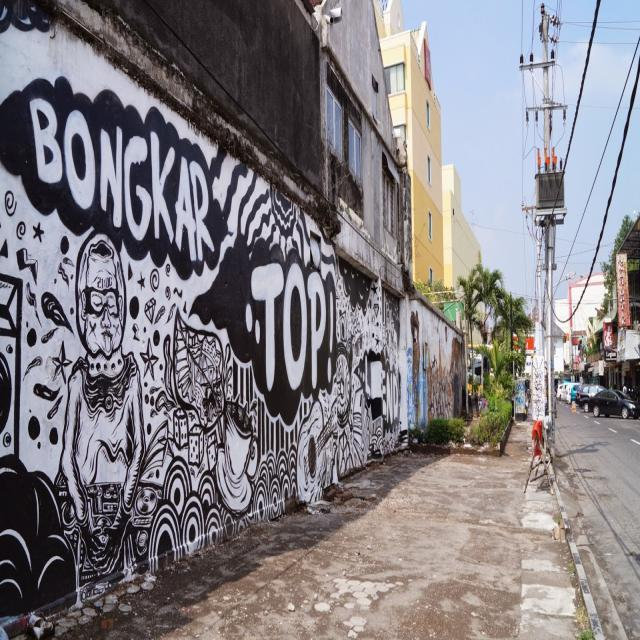-: (0, 0, 405, 586), (28, 91, 216, 268), (244, 256, 335, 399), (406, 286, 426, 432), (430, 336, 454, 421)
